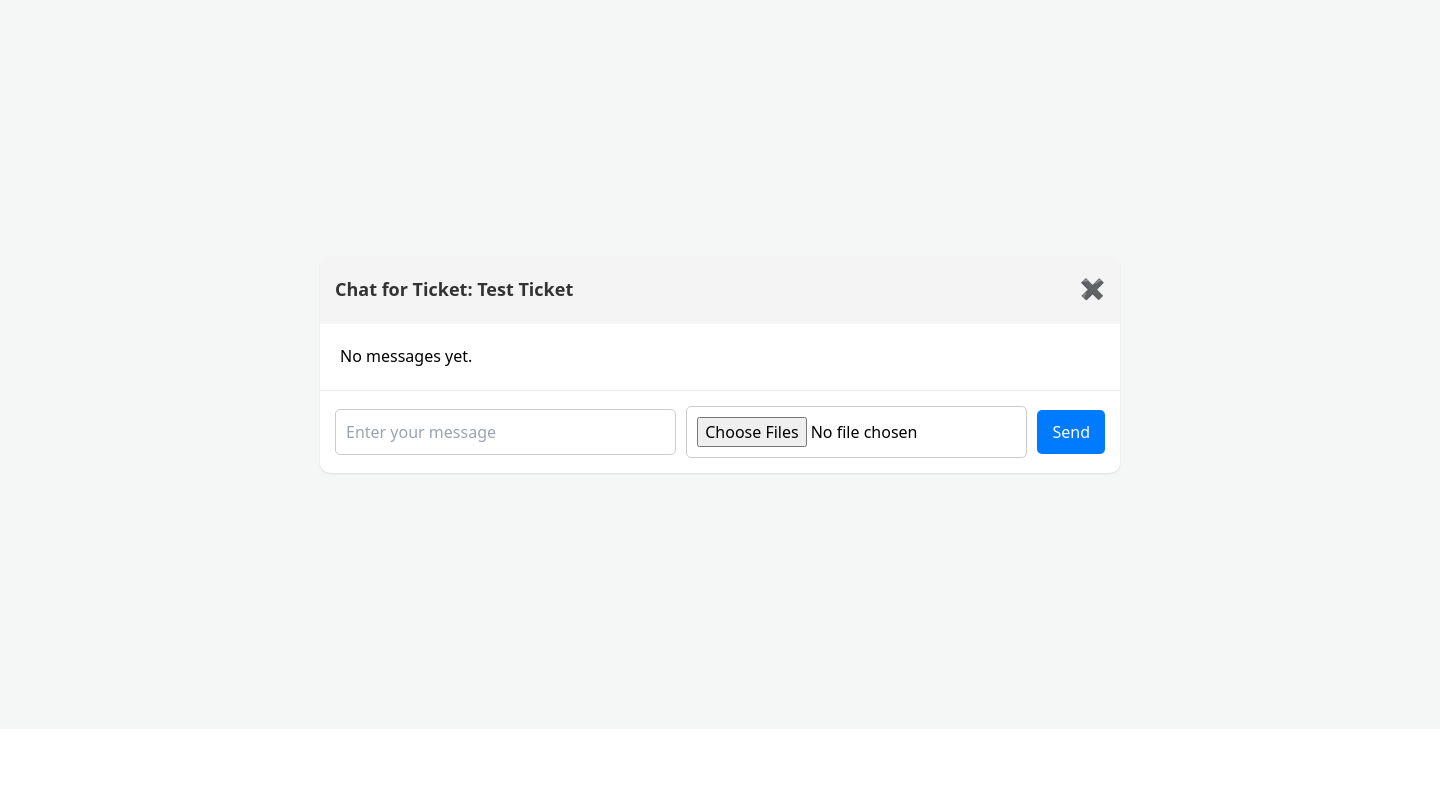
Test: Chat › should send a message
This screenshot has width=1440, height=810.
Type "Hello" into the field with placeholder "Enter your message".
click(506, 432); type("Hello")  # box [335,409,676,455]
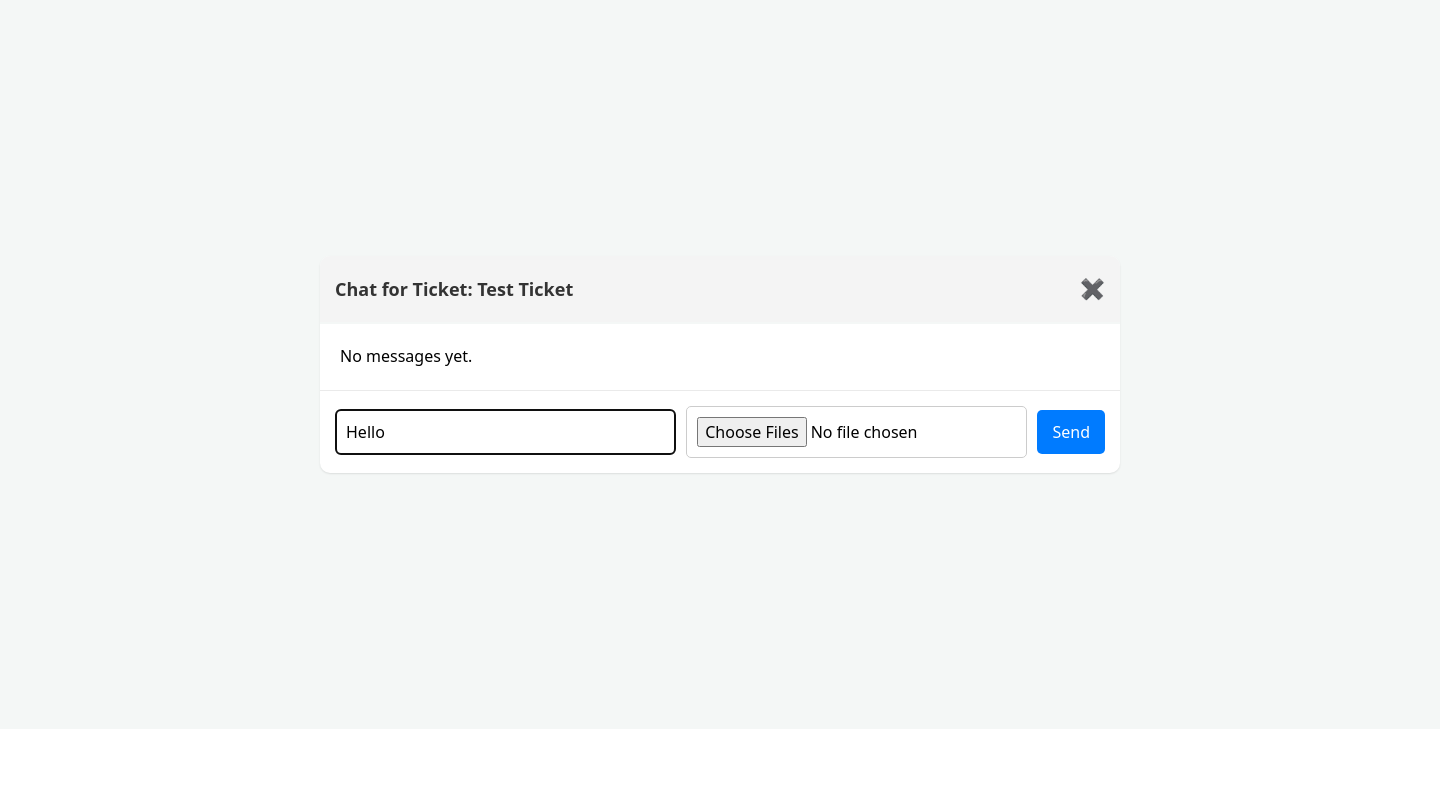
Click the button "Send".
click(1071, 432)  # box [1038,410,1105,454]
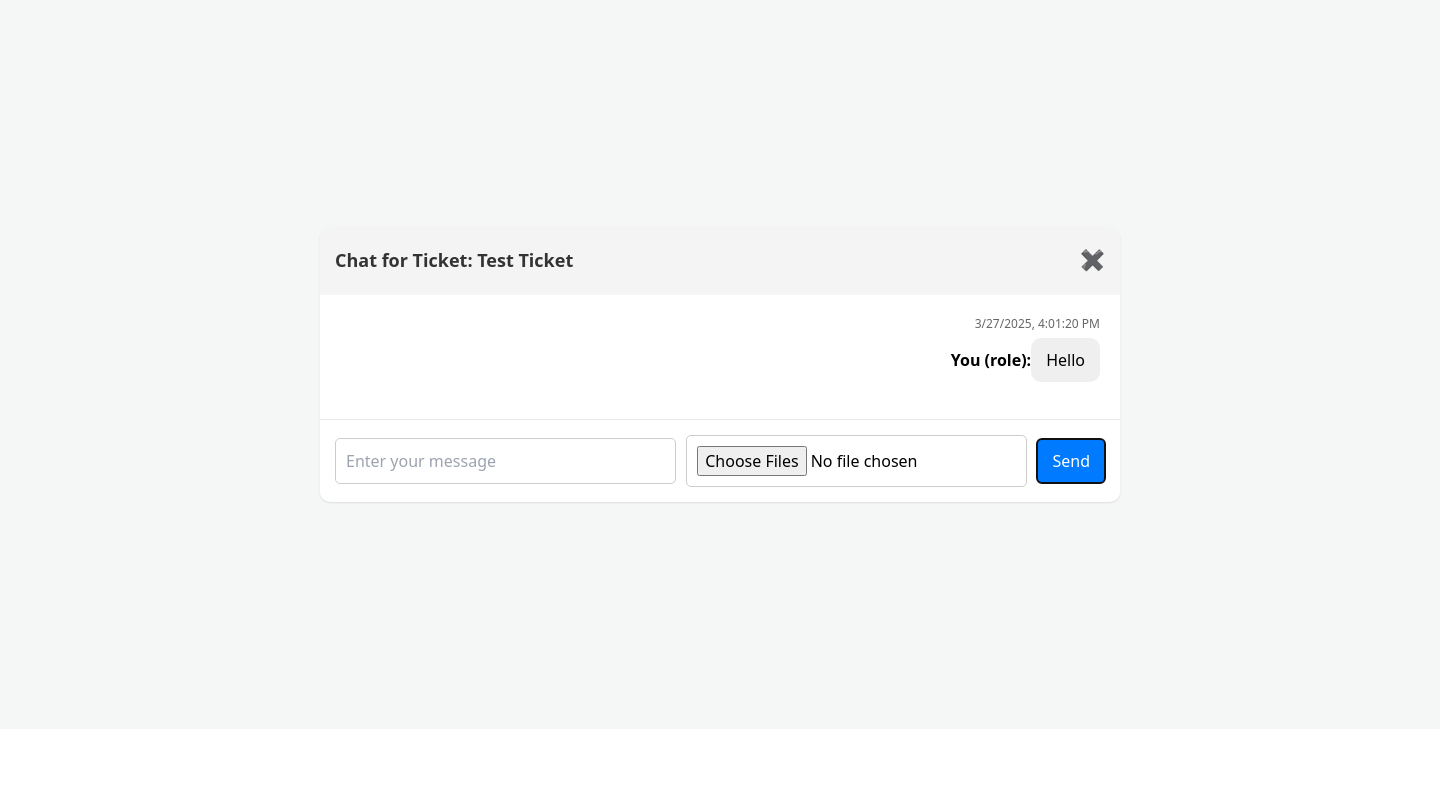
Expected: the text "Hello" is shown, [1031,338,1100,382]
